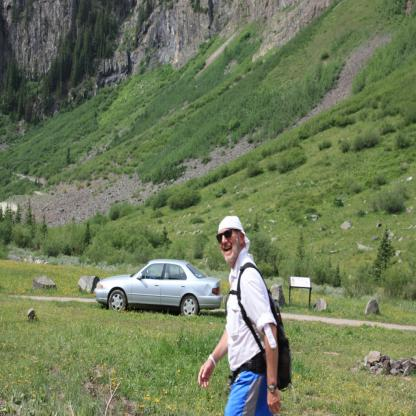Car: (94, 260, 225, 315)
